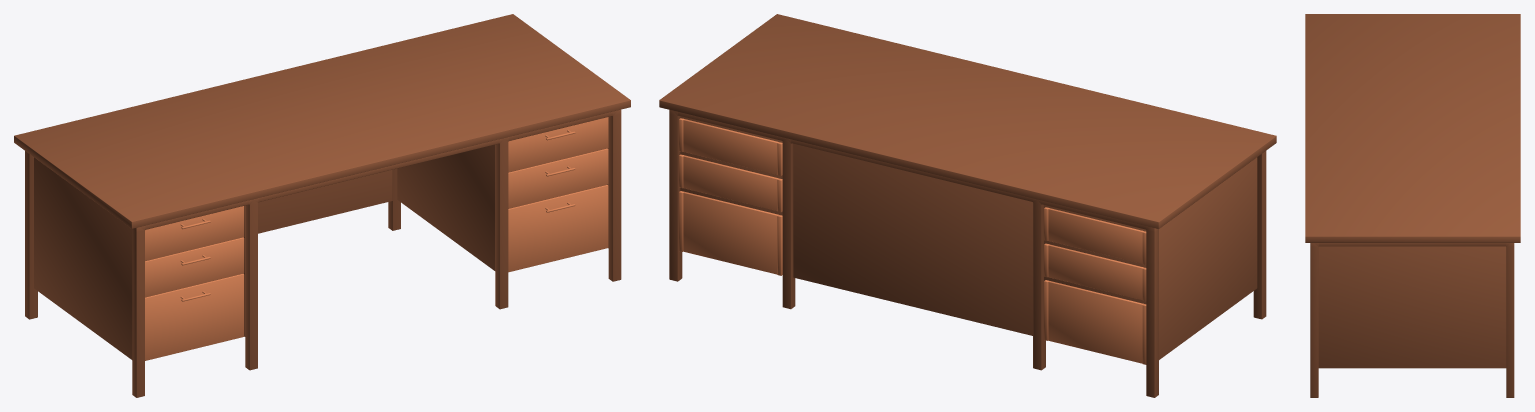
The model's file is Office Desk 1.fbx.
The picture shows the model from 3 angles, left to right: view 1: azimuth 30°, elevation 25°; view 2: azimuth 150°, elevation 25°; view 3: azimuth 270°, elevation 25°; orthographic projection. The views are drawn at different scales.
Parts seen in each view (by area): view 1: Office desk, Bottom Draw.001, Bottom Draw, Middle Draw.001, Middle Draw, Top Draw.001, Top Draw; view 2: Office desk, Bottom Draw.001, Bottom Draw, Middle Draw.001, Top Draw.001, Top Draw, Middle Draw; view 3: Office desk.
Boxes of the visible parts, <box> form: Office desk: <box>14,14,630,397</box>; Bottom Draw.001: <box>508,185,608,272</box>; Bottom Draw: <box>145,273,244,360</box>; Middle Draw.001: <box>508,148,608,208</box>; Middle Draw: <box>145,237,244,297</box>; Top Draw.001: <box>508,117,608,172</box>; Top Draw: <box>145,206,244,261</box>; Office desk: <box>659,14,1276,397</box>; Bottom Draw.001: <box>679,191,782,275</box>; Bottom Draw: <box>1044,280,1146,364</box>; Middle Draw.001: <box>679,154,782,212</box>; Top Draw.001: <box>679,118,782,175</box>; Top Draw: <box>1044,207,1146,264</box>; Middle Draw: <box>1044,243,1146,301</box>; Office desk: <box>1305,14,1520,397</box>.
Bounding box in the file's own units: 220 × 75.89 × 90.
